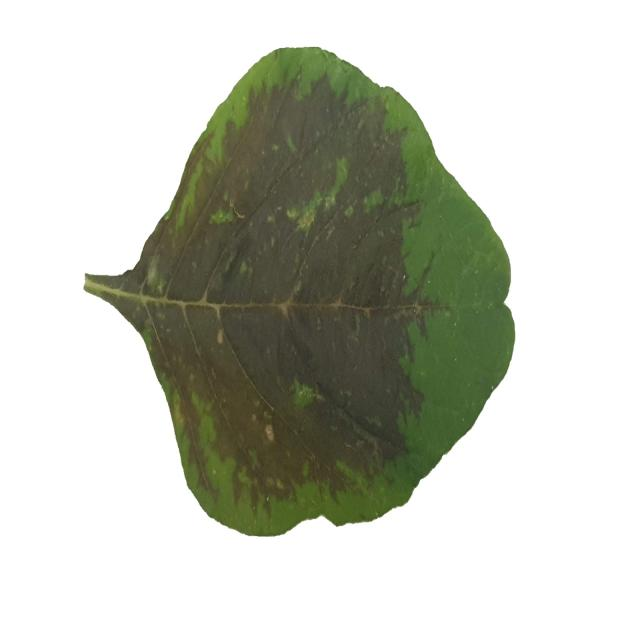Medicinal-Arive Dantu: (82, 49, 517, 537)
